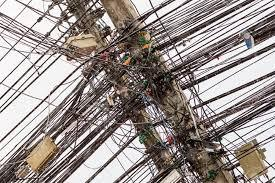wires-only: (188, 0, 275, 132), (82, 46, 189, 132), (0, 120, 74, 182)
